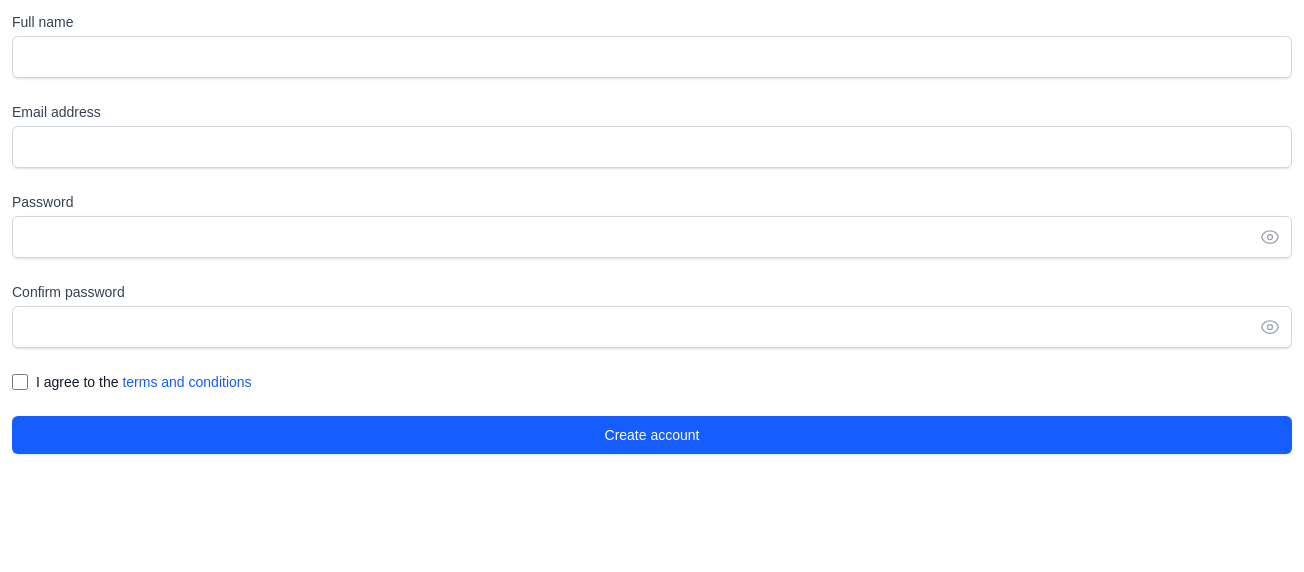
RegisterForm › should handle registration errors gracefully
In the field labelled "Full name": (652, 57) [12, 36, 1292, 78], type "John Doe"
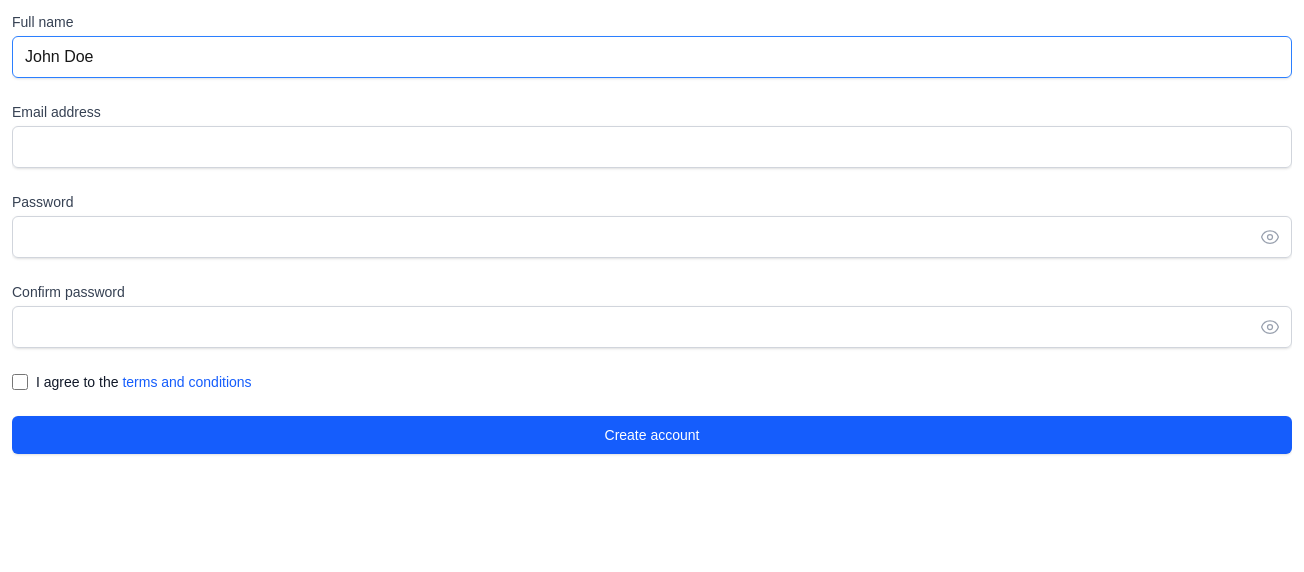
In the field labelled "Email address": (652, 147) [12, 126, 1292, 168], type "existing@example.com"
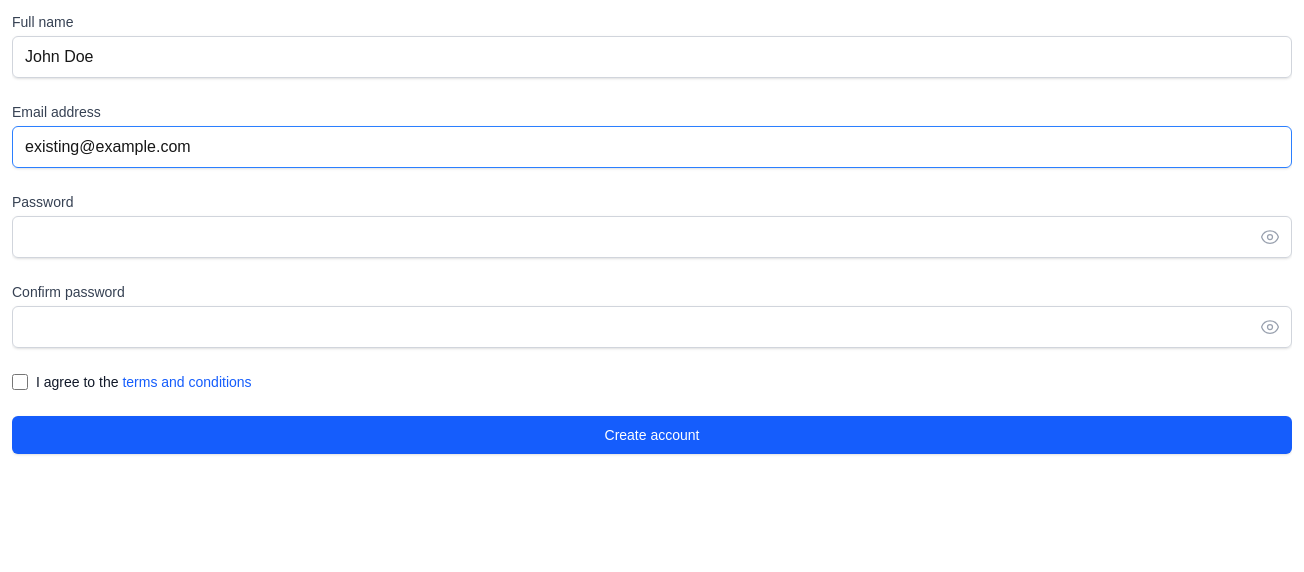
In the password field labelled "Password": (652, 237) [12, 216, 1292, 258], type "password123"
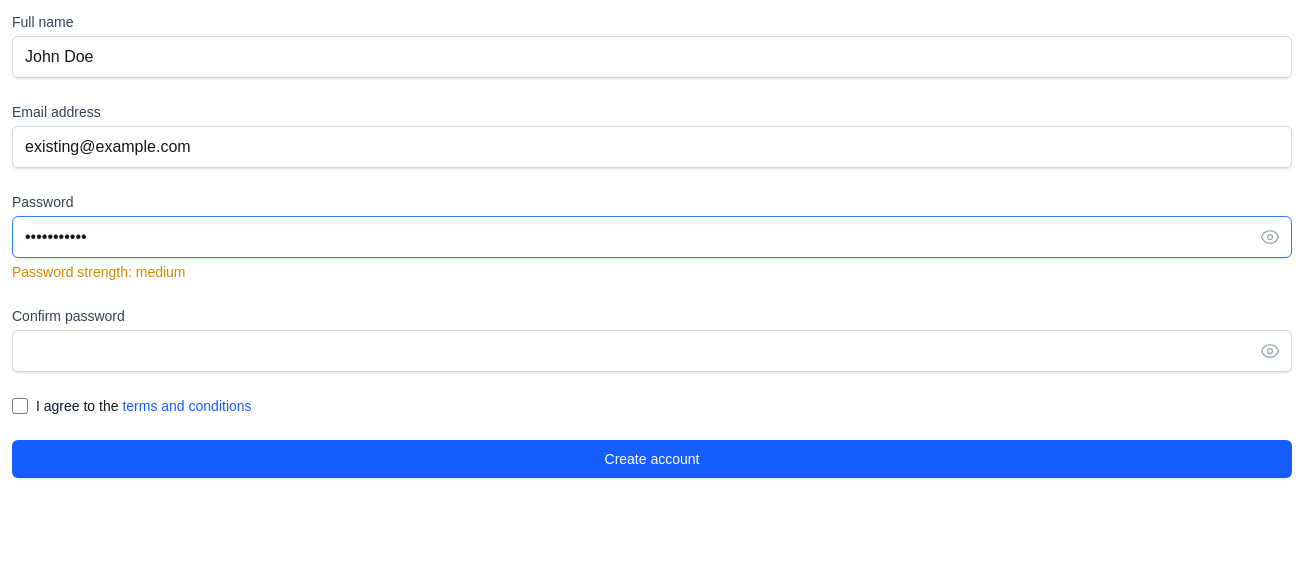
In the password field labelled "Confirm password": (652, 351) [12, 330, 1292, 372], type "password123"
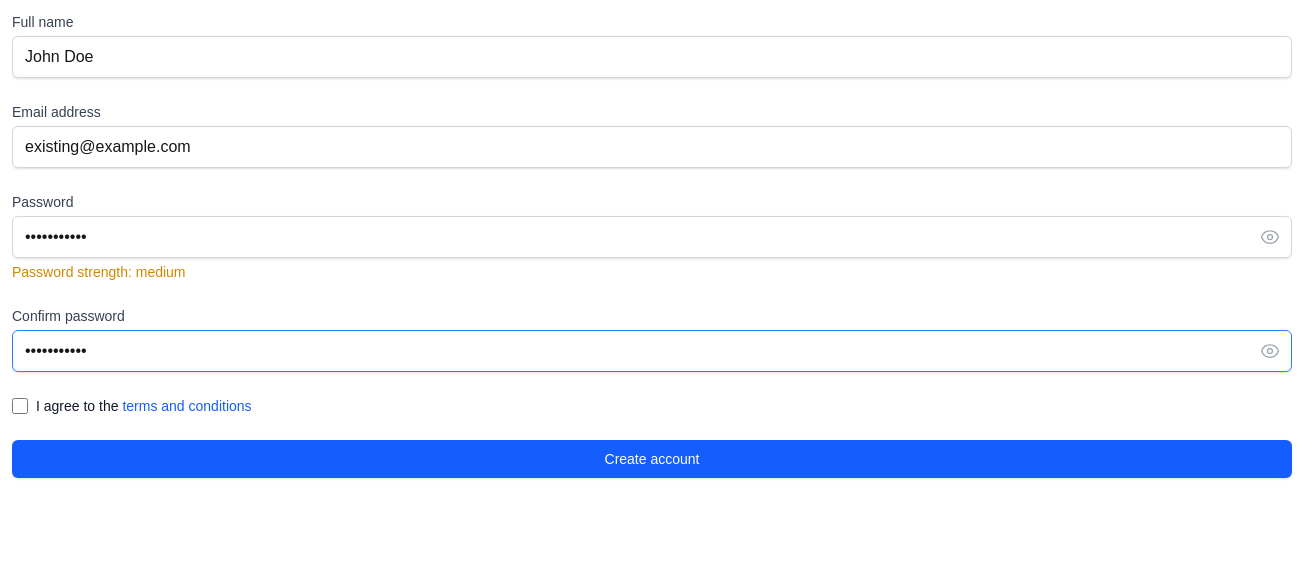
Click the checkbox labelled "I agree to the terms and conditions": (20, 406) [12, 398, 28, 414]
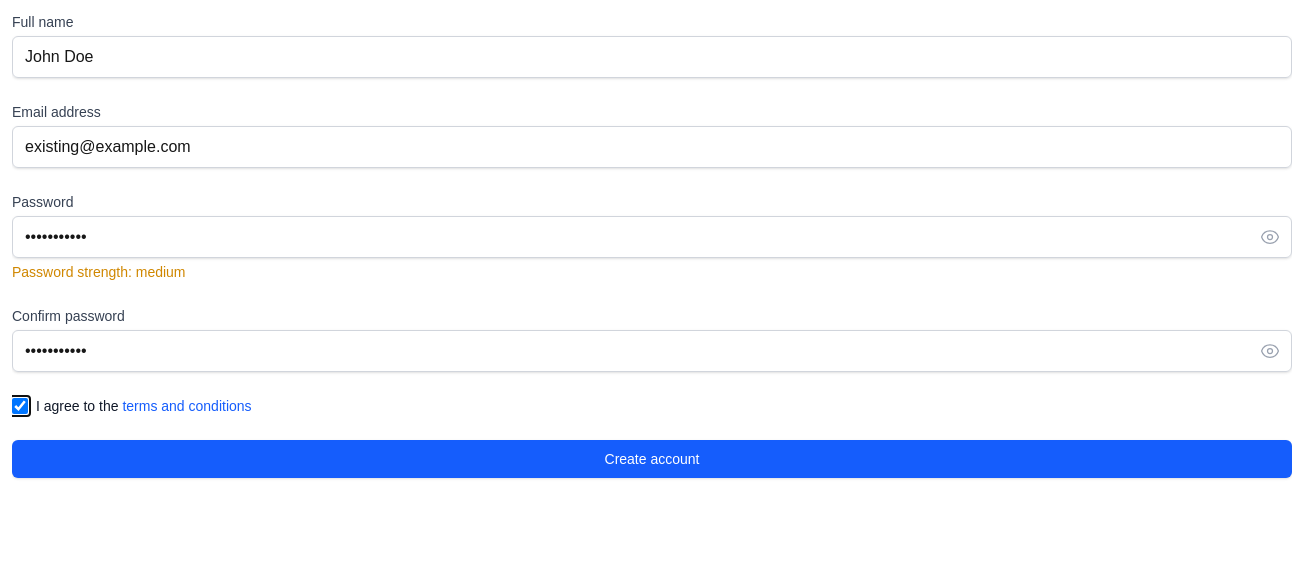
Click the button "Create account": (652, 459) [12, 440, 1292, 478]
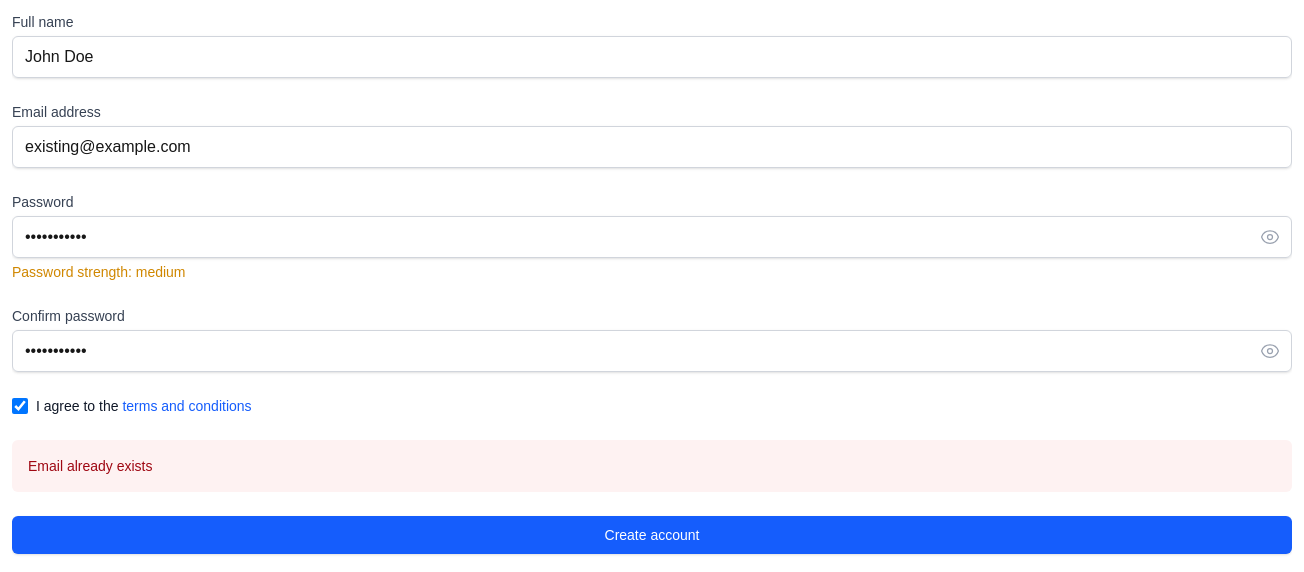
expect the text "Email already exists" is shown: met, box [28, 458, 152, 474]
